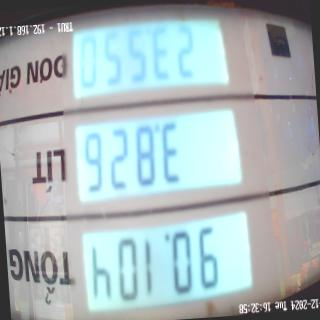screen: (59, 0, 259, 319)
